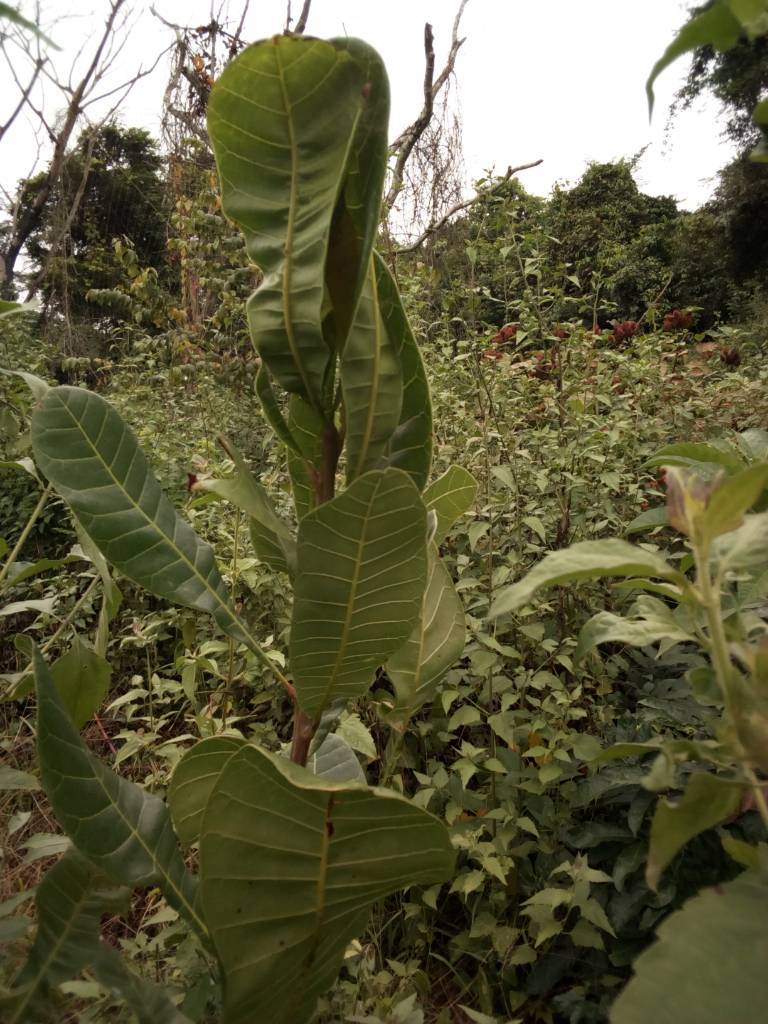Anthracnose: (219, 761, 425, 1021)
